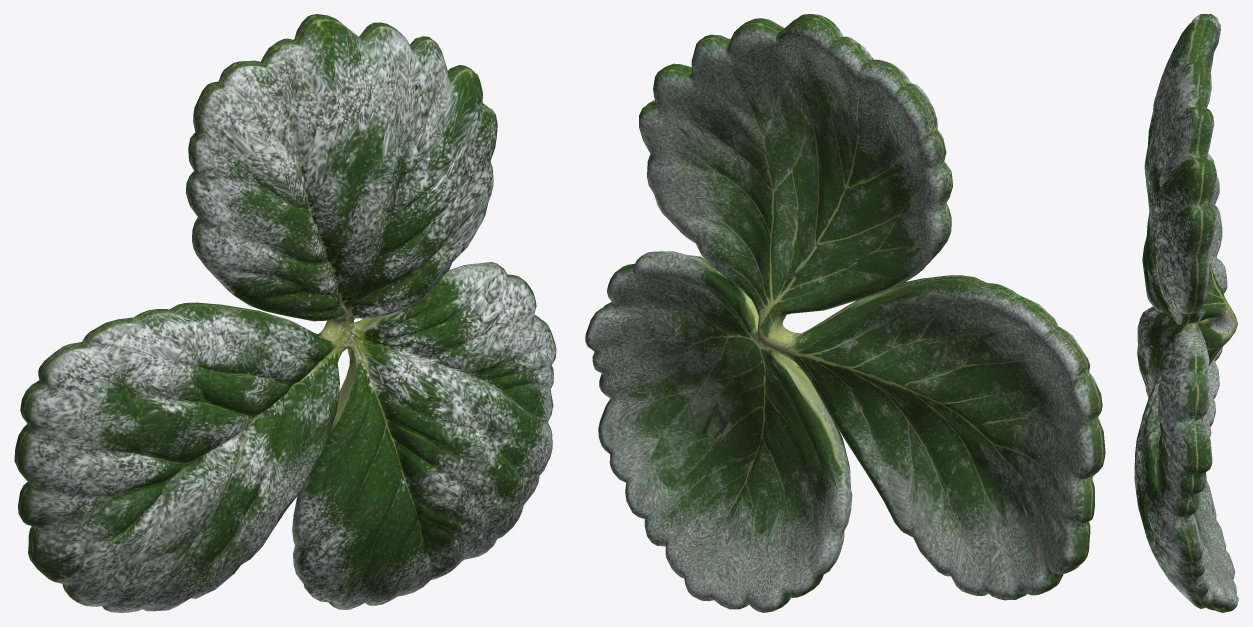
The model's file is cherry_powdery_mildew.glb.
3 renders of one model, left to right at view 1: azimuth 30°, elevation 25°; view 2: azimuth 150°, elevation 25°; view 3: azimuth 270°, elevation 25°, orthographic. The views are drawn at different scales.
Parts seen in each view (by area): view 1: cherry_powdery_mildew; view 2: cherry_powdery_mildew; view 3: cherry_powdery_mildew.
Part boxes in pixels (x1,y1,x2,y2): cherry_powdery_mildew: (14, 14, 556, 612); cherry_powdery_mildew: (585, 14, 1105, 612); cherry_powdery_mildew: (1134, 14, 1238, 612).
Size of the model in its own units: 0.905 by 1 by 0.172.
1 material, 1 textured.
